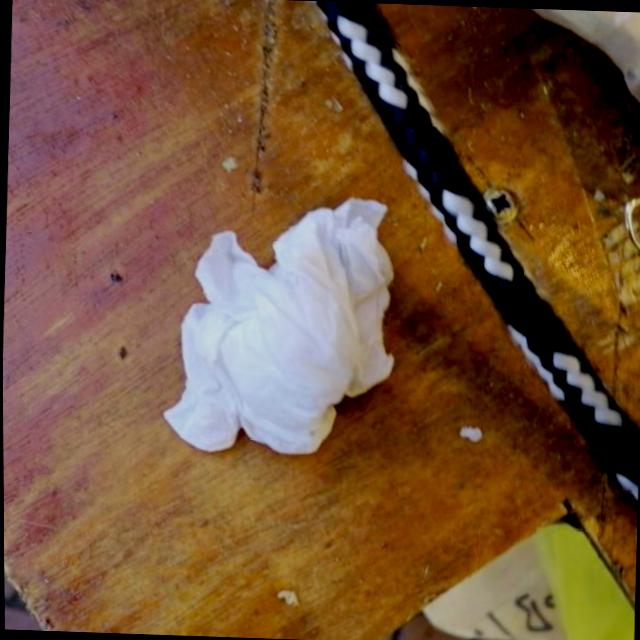Paper: (158, 187, 401, 459)
